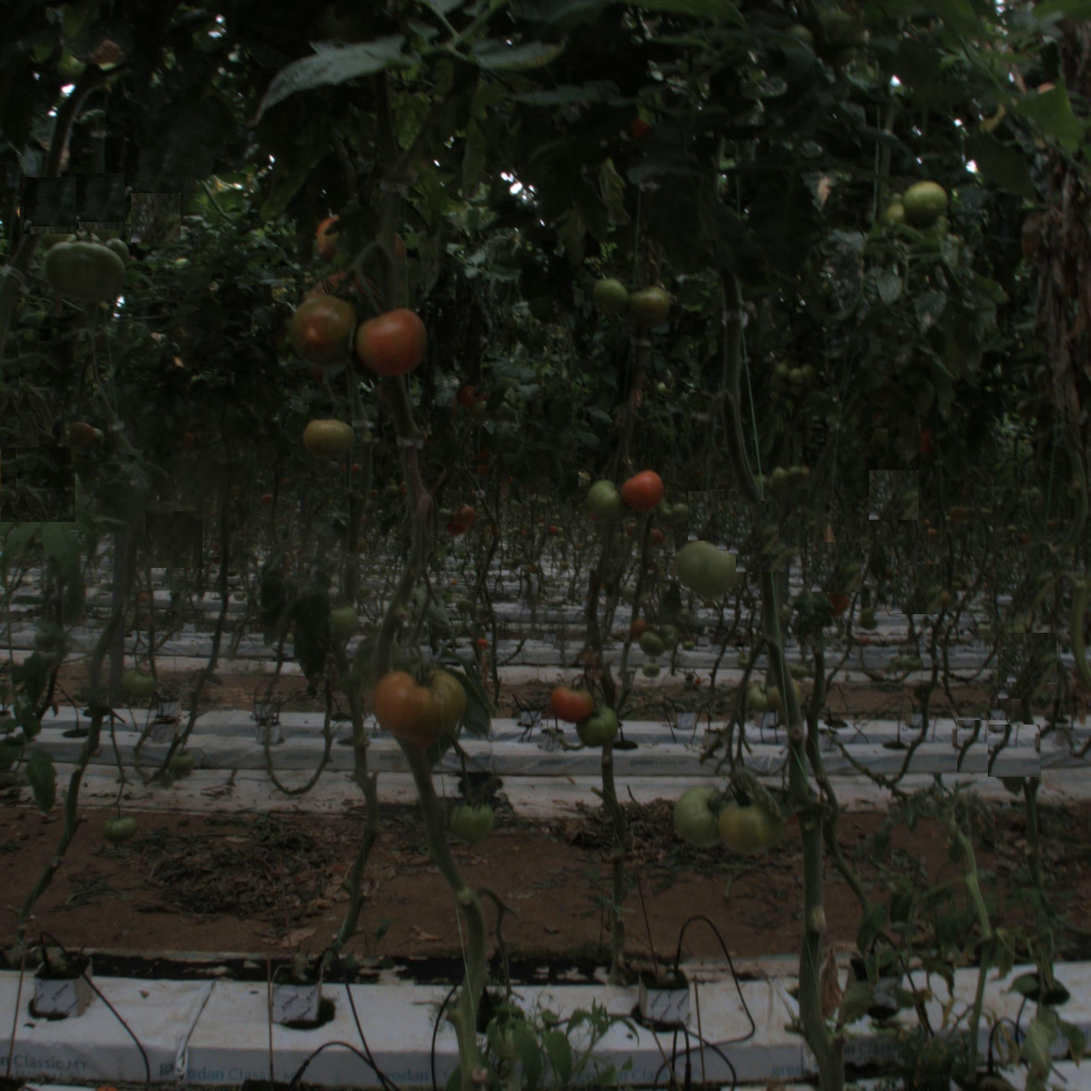fully-ripe: (552, 682, 594, 724), (624, 472, 666, 513)
semi-ripe: (370, 657, 466, 753), (353, 304, 430, 381), (289, 297, 353, 361), (300, 413, 355, 467)
unripe: (44, 234, 131, 321), (717, 795, 786, 864), (676, 541, 736, 601), (673, 786, 728, 841), (902, 178, 952, 229), (627, 286, 677, 336), (448, 794, 493, 839), (579, 707, 621, 748), (583, 482, 625, 523), (590, 277, 631, 318)
